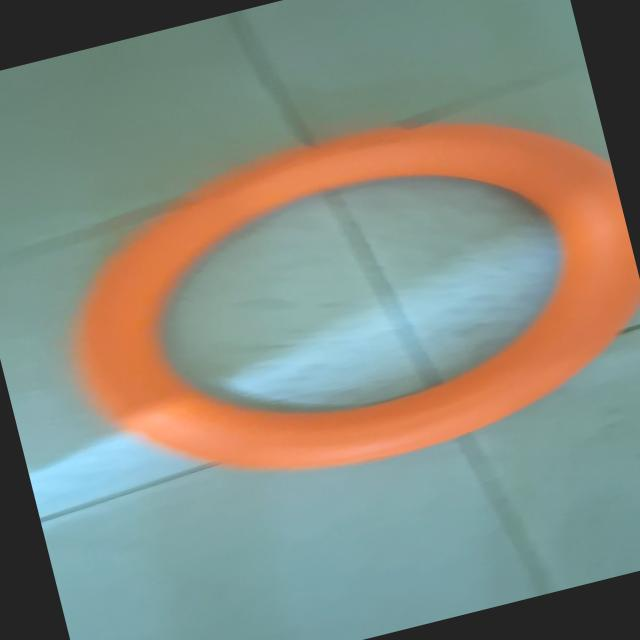note: (34, 71, 640, 526)
